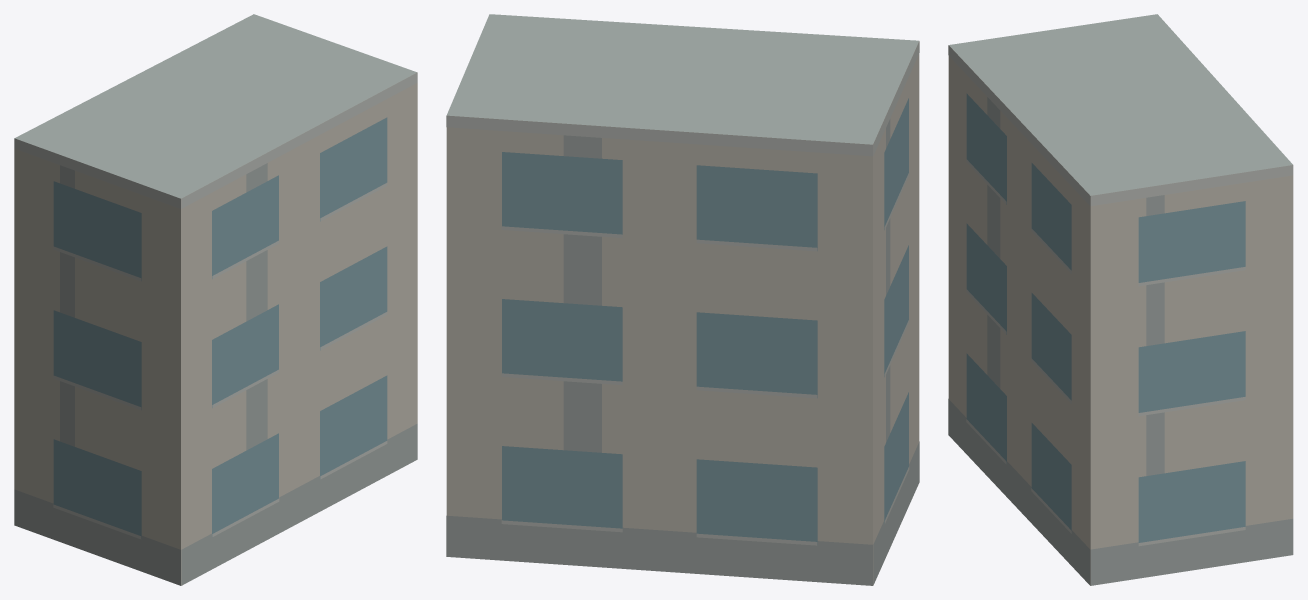
Rendered from survey-upis-32954741.glb.
The picture shows the model from 3 angles, left to right: view 1: azimuth 30°, elevation 25°; view 2: azimuth 150°, elevation 25°; view 3: azimuth 270°, elevation 25°; orthographic projection. The views are drawn at different scales.
Visible parts, largest first — view 1: survey-upis-32954741.tmp; view 2: survey-upis-32954741.tmp; view 3: survey-upis-32954741.tmp.
Boxes of the visible parts, box(x1,y1,x2,y2) form: survey-upis-32954741.tmp: box(14, 14, 417, 585); survey-upis-32954741.tmp: box(446, 14, 919, 585); survey-upis-32954741.tmp: box(948, 14, 1293, 585).
Bounding box in the file's own units: 9.16 × 9.15 × 7.34.
